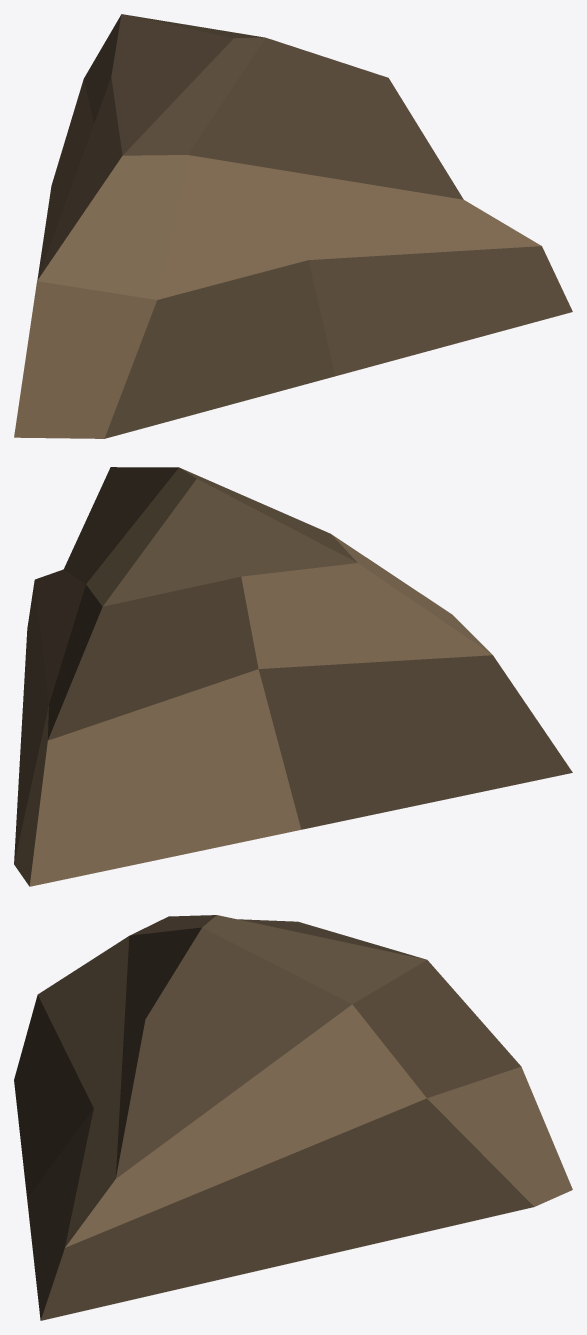
File: Stone_4_Brown.fbx
The picture shows the model from 3 angles, top to bottom: view 1: azimuth 30°, elevation 25°; view 2: azimuth 150°, elevation 25°; view 3: azimuth 270°, elevation 25°; orthographic projection. The views are drawn at different scales.
Parts seen in each view (by area): view 1: Stone_4_Brown_Part_1, Stone_4_Brown_Part_2; view 2: Stone_4_Brown_Part_1, Stone_4_Brown_Part_2; view 3: Stone_4_Brown_Part_1, Stone_4_Brown_Part_2.
Boxes of the visible parts, x1,y1,x2,y2 form: Stone_4_Brown_Part_1: (84,14,572,438); Stone_4_Brown_Part_2: (14,77,541,438); Stone_4_Brown_Part_1: (14,467,572,863); Stone_4_Brown_Part_2: (14,534,492,886); Stone_4_Brown_Part_1: (14,915,533,1320); Stone_4_Brown_Part_2: (37,936,572,1247).
Bounding box in the file's own units: 232 × 110 × 200.
